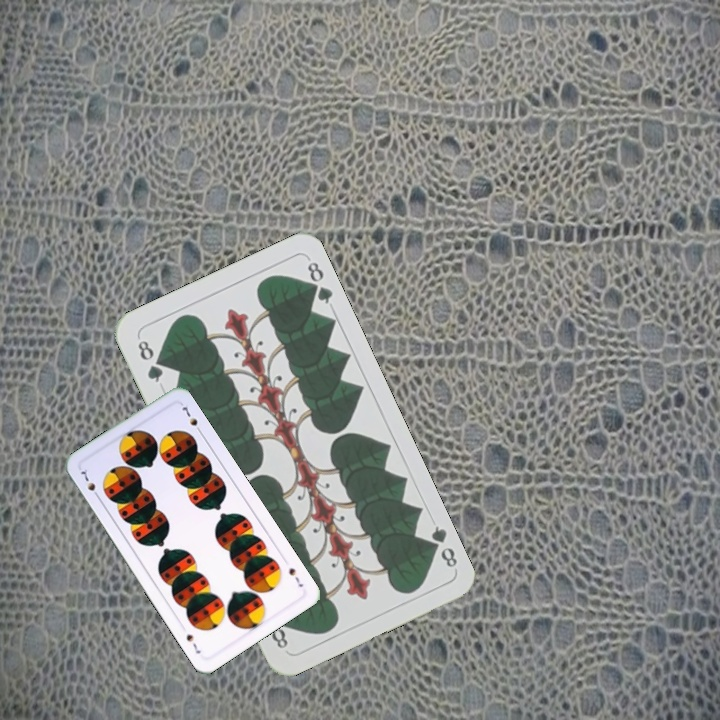G8: (421, 521, 460, 571), (133, 336, 166, 386)
S7: (76, 465, 102, 502), (285, 564, 306, 590)
